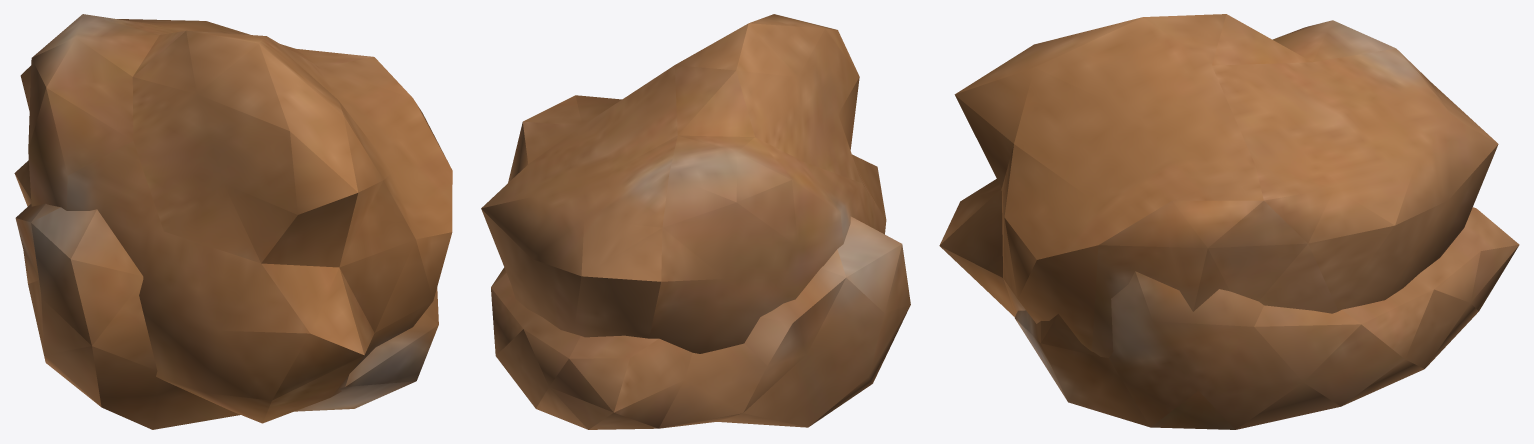
File: terron_1.glb
3 views of the same model, side by side, from view 1: azimuth 30°, elevation 25°; view 2: azimuth 150°, elevation 25°; view 3: azimuth 270°, elevation 25° (orthographic). The views are drawn at different scales.
Parts seen in each view (by area): view 1: terron_1_malla; view 2: terron_1_malla; view 3: terron_1_malla.
Boxes of the visible parts, box(x1,y1,x2,y2) form: terron_1_malla: box(14, 14, 452, 429); terron_1_malla: box(481, 14, 910, 429); terron_1_malla: box(939, 14, 1519, 429).
Size of the model in its own units: 0.1326 by 0.1252 by 0.1815.
Materials: 1 (1 with a texture image).
